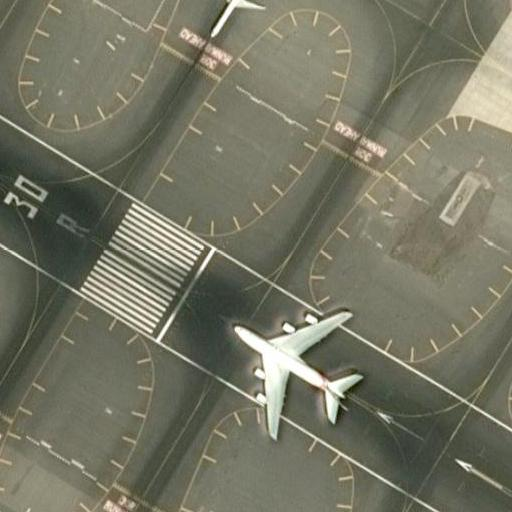Aircraft: (218, 294, 369, 433), (207, 0, 274, 36)
